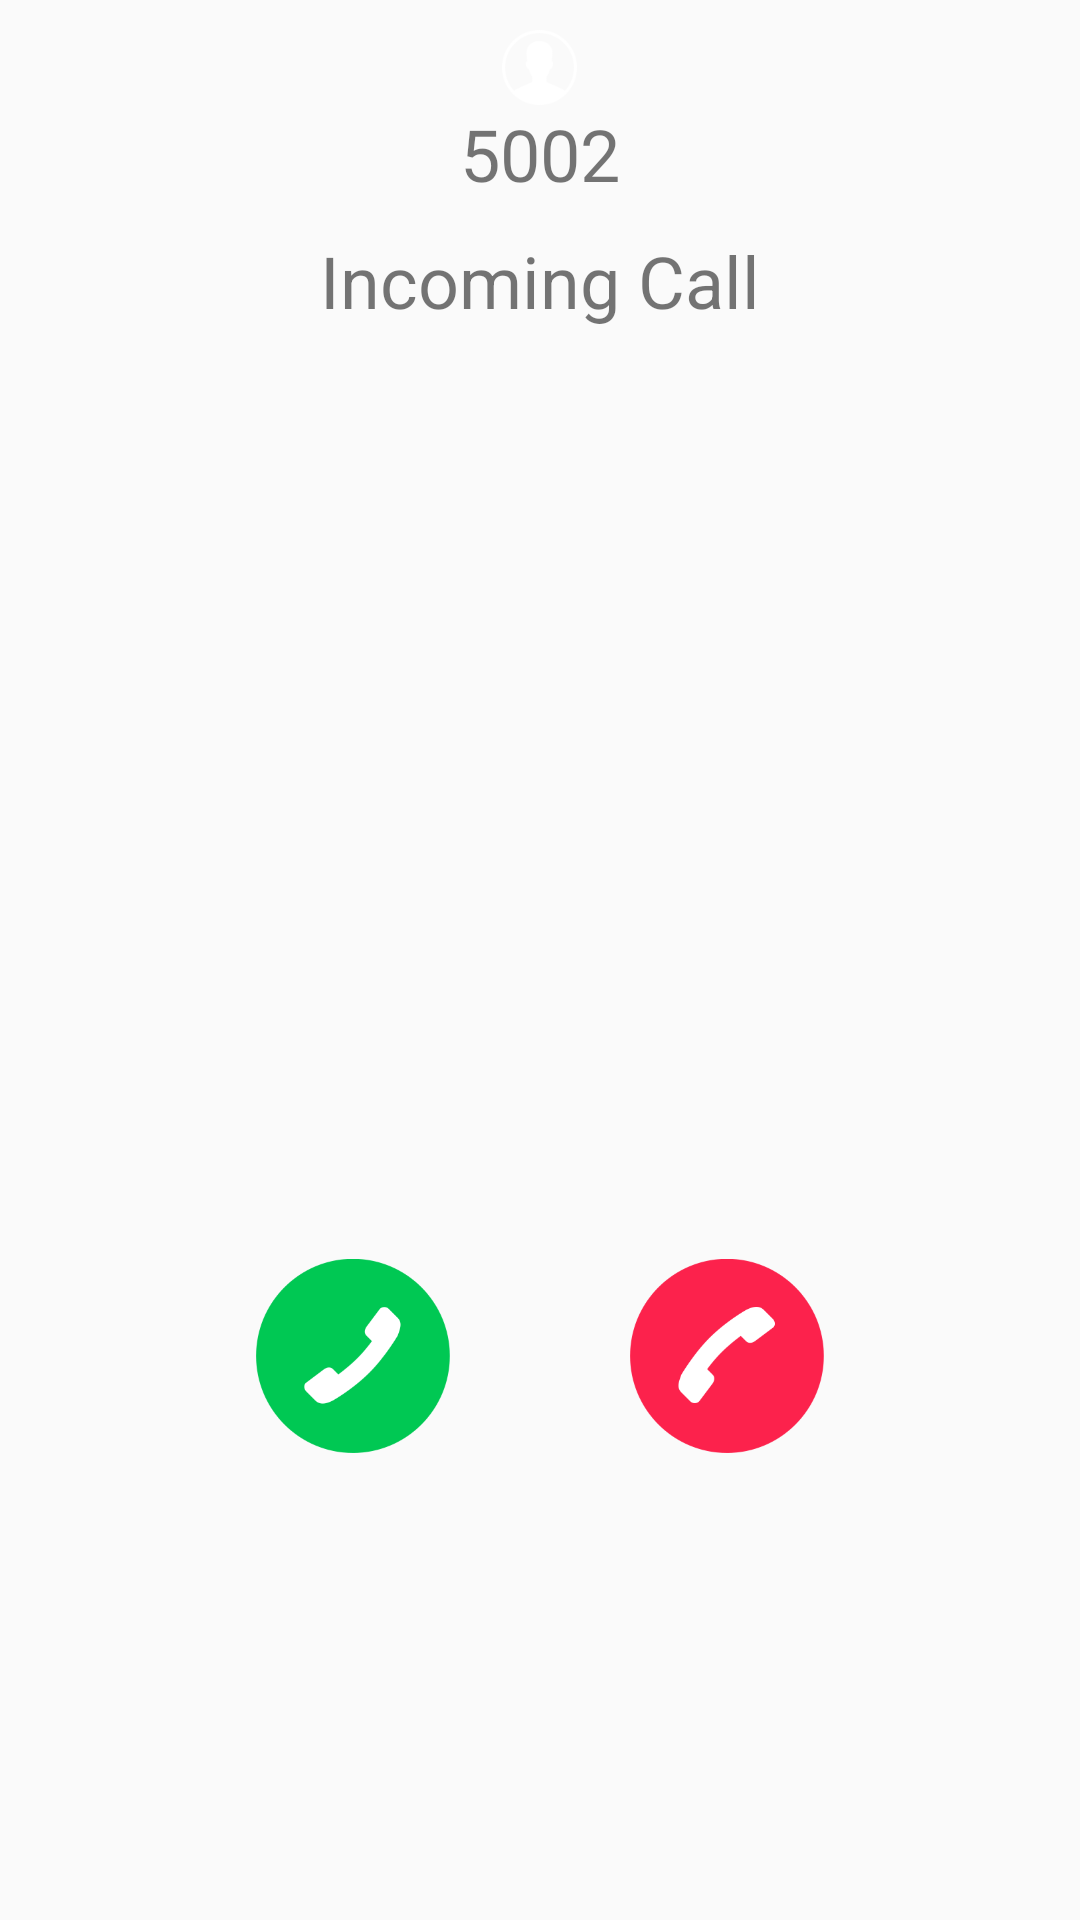

Where to tap for icons on this 1080x1920 app screen, as (x=x, y=y):
call: (x=353, y=1356)
hungup: (x=727, y=1356)
